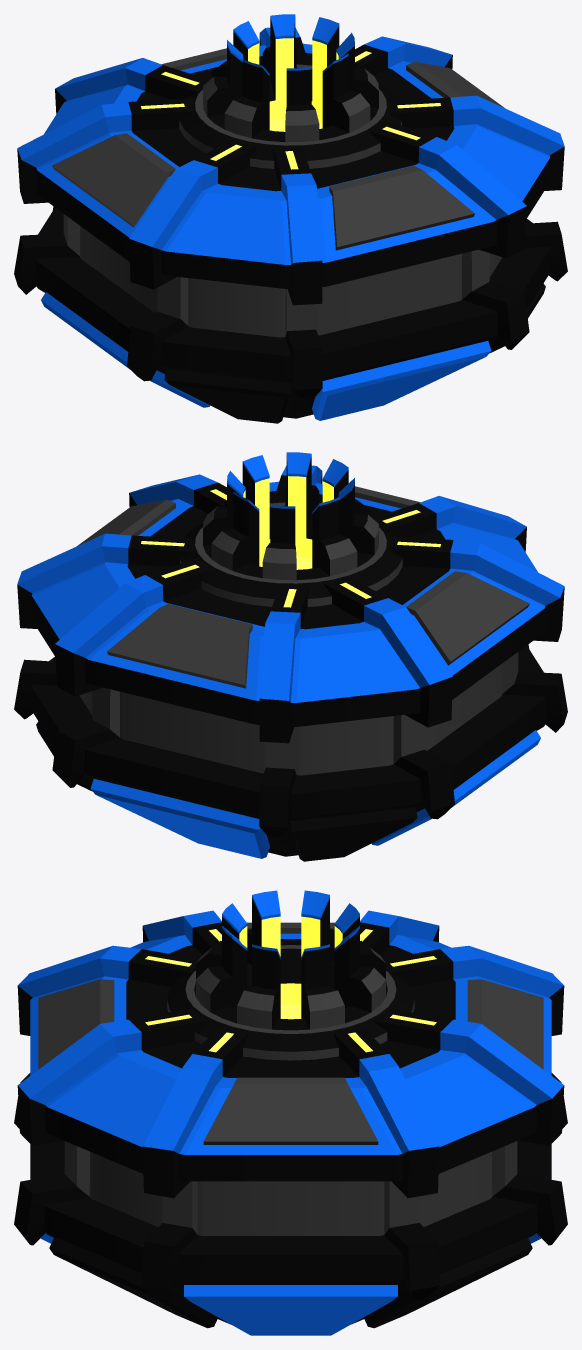
The model's file is 01_turret_rocketHowler.glb.
3 views of the same model, one above another, from view 1: azimuth 30°, elevation 25°; view 2: azimuth 150°, elevation 25°; view 3: azimuth 270°, elevation 25° (orthographic). The views are drawn at different scales.
Parts seen in each view (by area): view 1: 01_turret_rocketHowler; view 2: 01_turret_rocketHowler; view 3: 01_turret_rocketHowler.
Part boxes in pixels (bbox=[...]): 01_turret_rocketHowler: bbox=[14, 14, 567, 423]; 01_turret_rocketHowler: bbox=[14, 452, 567, 861]; 01_turret_rocketHowler: bbox=[14, 890, 567, 1335].
Bounding box in the file's own units: 1.06 × 0.7788 × 1.06.
